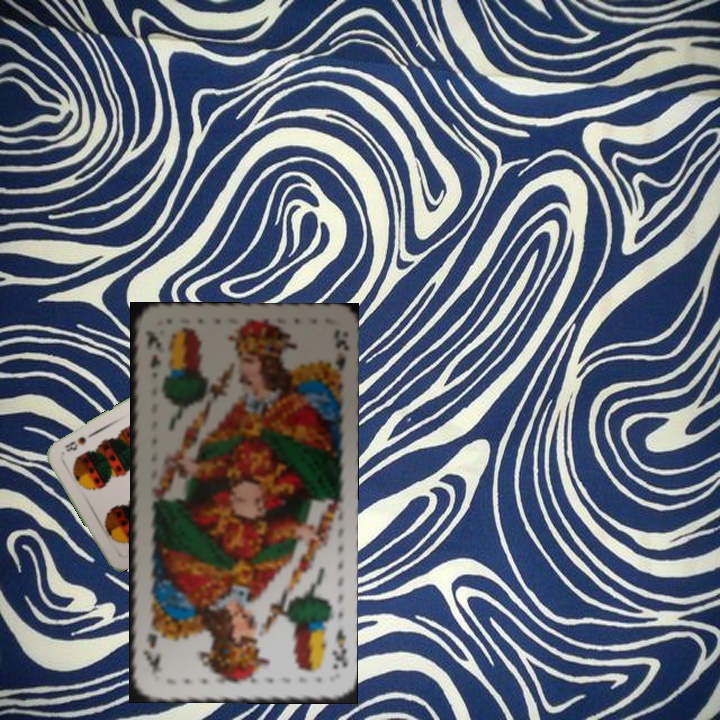EK: (328, 624, 349, 672), (141, 327, 163, 372)
